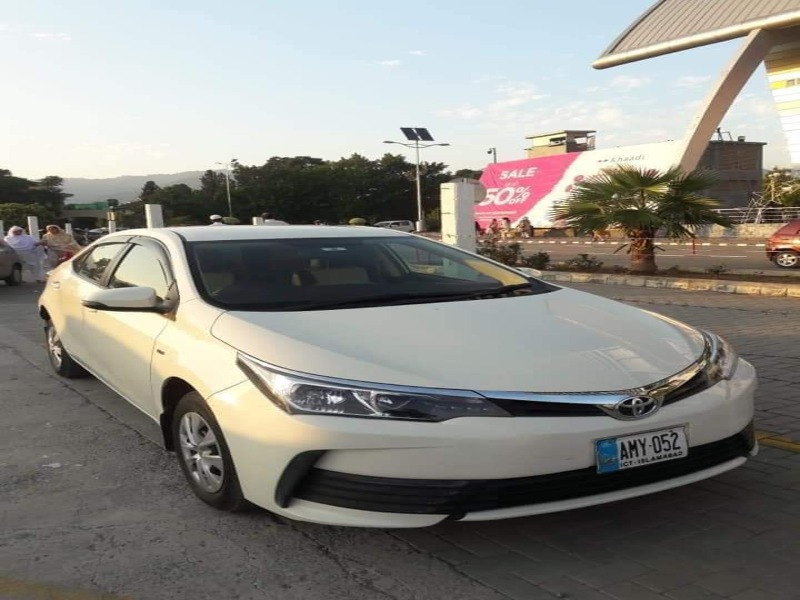License Plate: (595, 422, 691, 470)
